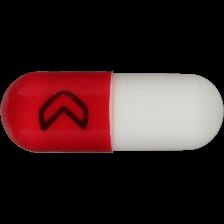54868-5842: (0, 0, 224, 224)
